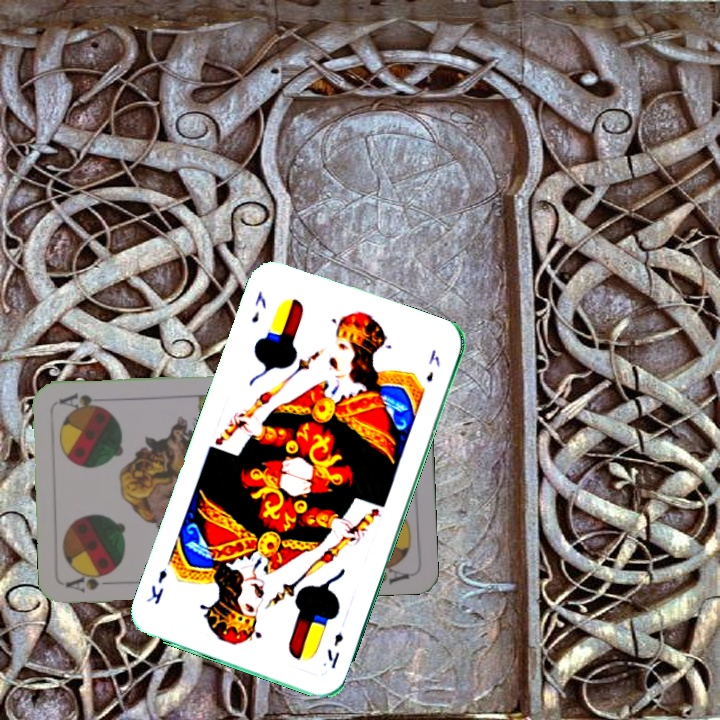EK: (322, 628, 346, 671), (247, 287, 269, 326)
SA: (63, 570, 122, 595)
